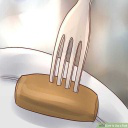fork: (48, 1, 100, 91)
